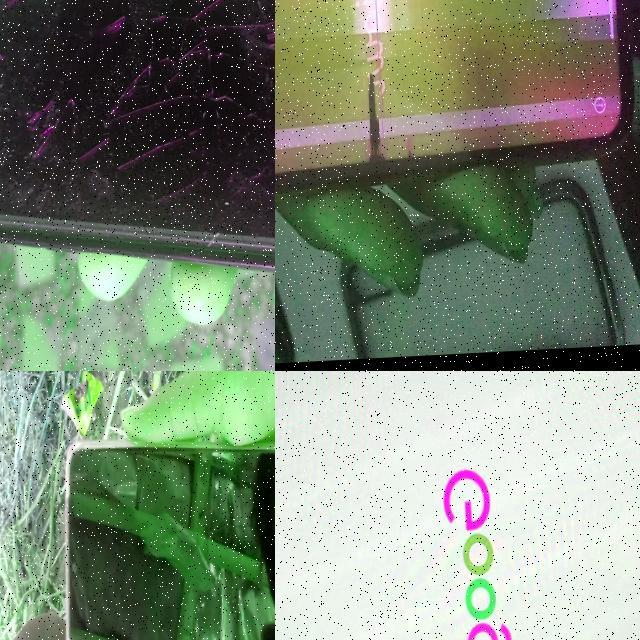dead pixel: (348, 53, 384, 180)
screen crack: (0, 0, 275, 282), (62, 449, 97, 510)
